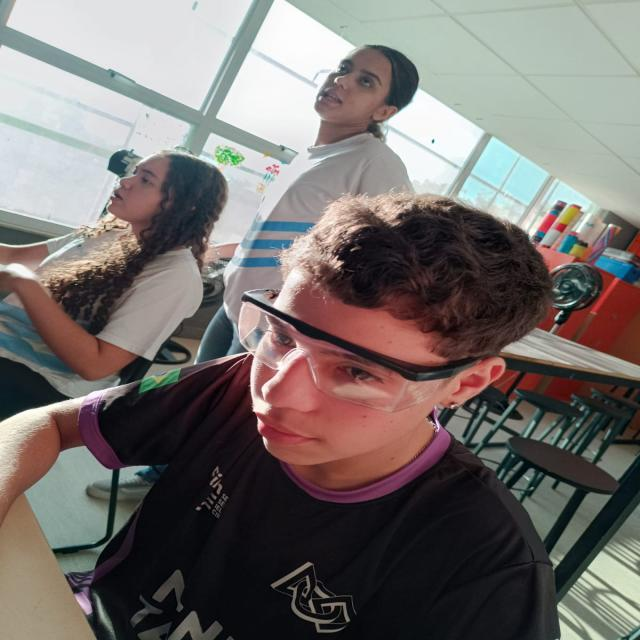oculos-epi: (235, 288, 481, 415)
sem_oculos: (330, 58, 396, 108), (127, 166, 187, 197)
